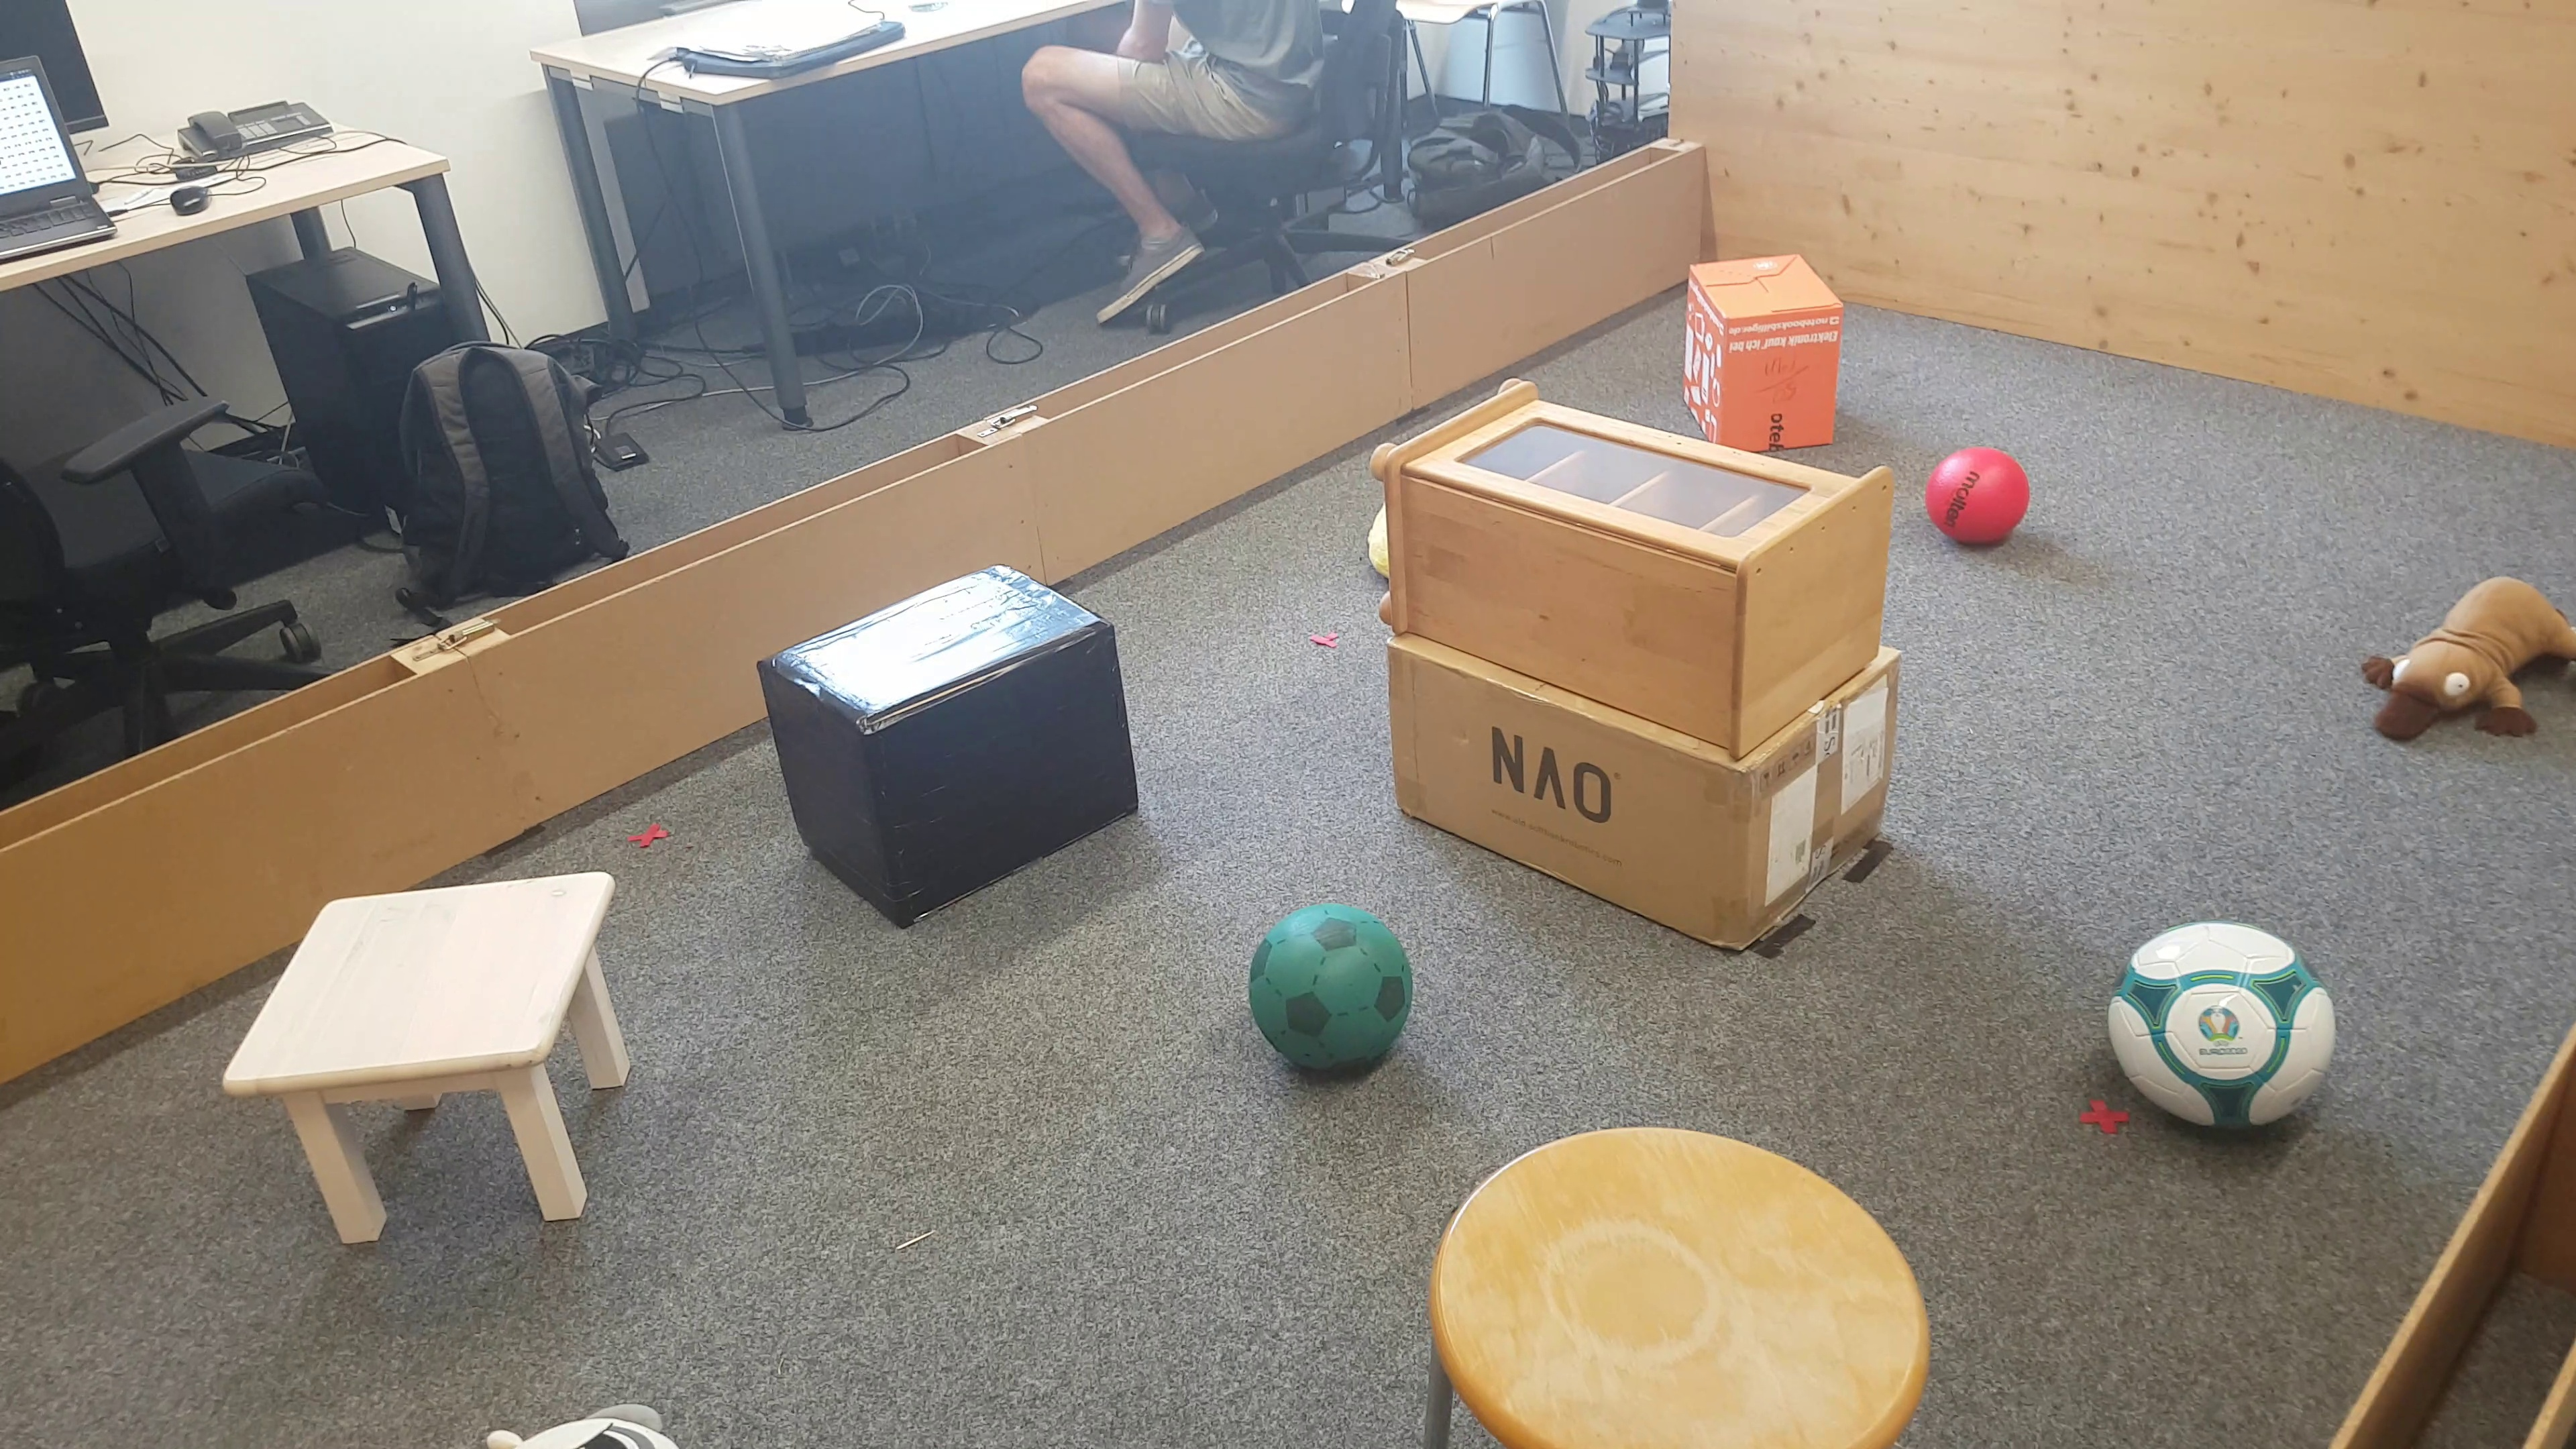grasp: (2360, 575, 2576, 745), (478, 1398, 697, 1449)
kick: (2109, 922, 2335, 1152), (1249, 899, 1417, 1085), (1928, 444, 2035, 547)
push: (747, 559, 1148, 918), (1677, 241, 1844, 458)
